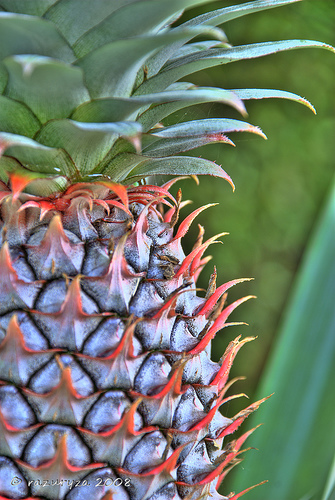pineapple: (1, 0, 333, 498)
